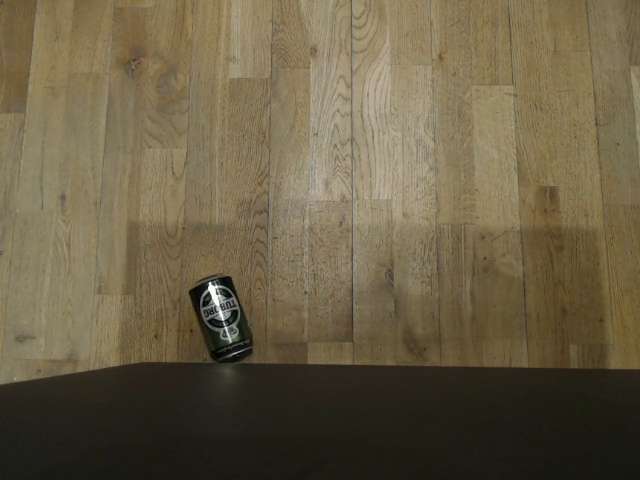beer: (174, 258, 266, 370)
